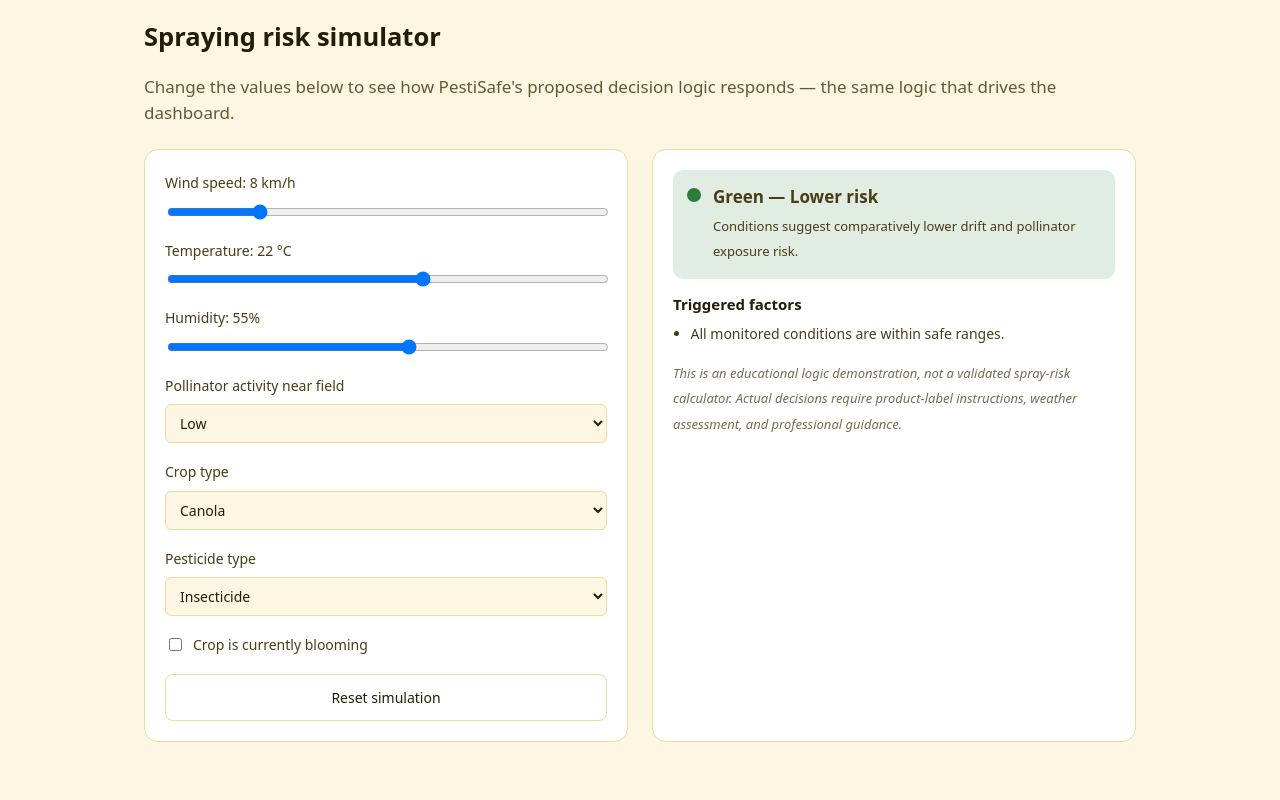
it: RiskSimulator › reset button restores the default reading
This screenshot has width=1280, height=800.
Set the slider labelled "Wind speed: 8 km/h" to "35" at x=548, y=212, box x1=167 y1=204 x2=609 y2=220
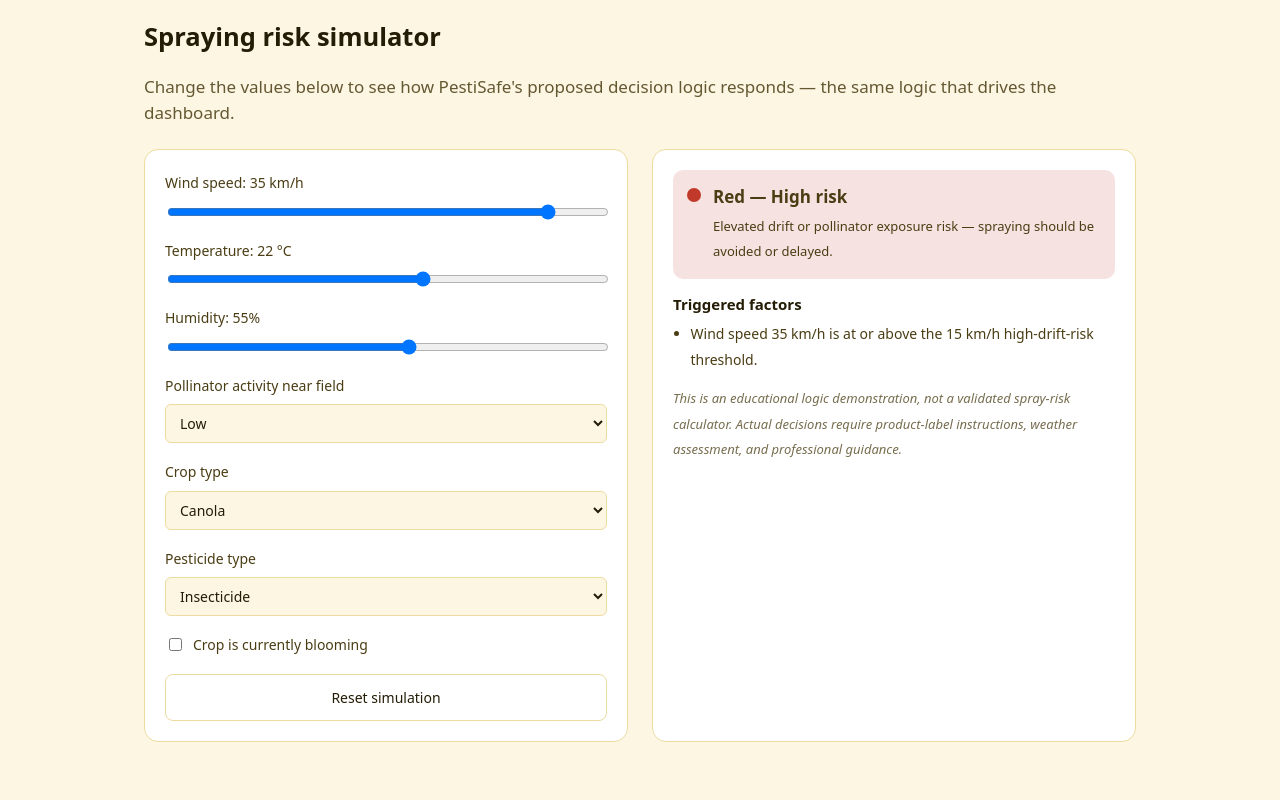
Expected: the message with test id "risk-badge" has class "risk-badge--red", x1=673 y1=170 x2=1115 y2=279
Click the button "Reset simulation" at x=386, y=697, box x1=165 y1=674 x2=607 y2=721
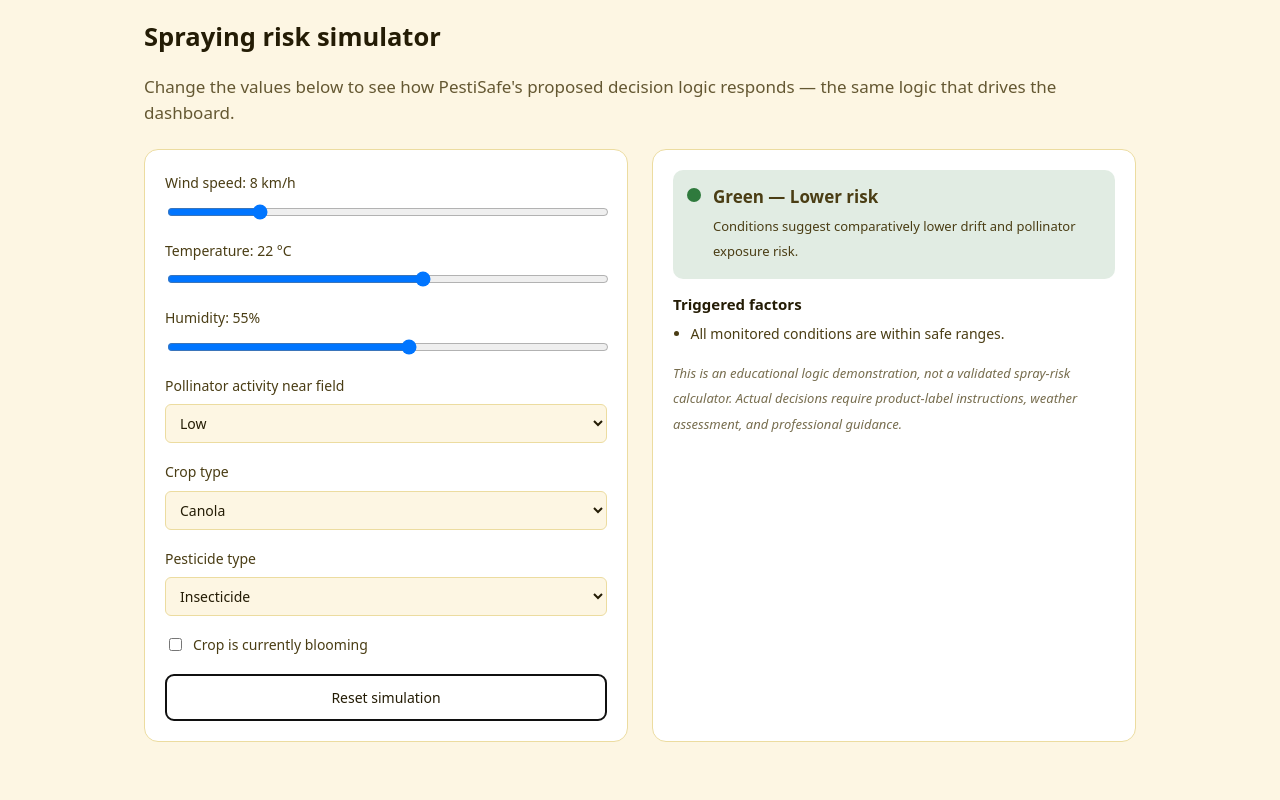
Expected: the slider labelled "Wind speed: 8 km/h" holds "8", x1=167 y1=204 x2=609 y2=220
